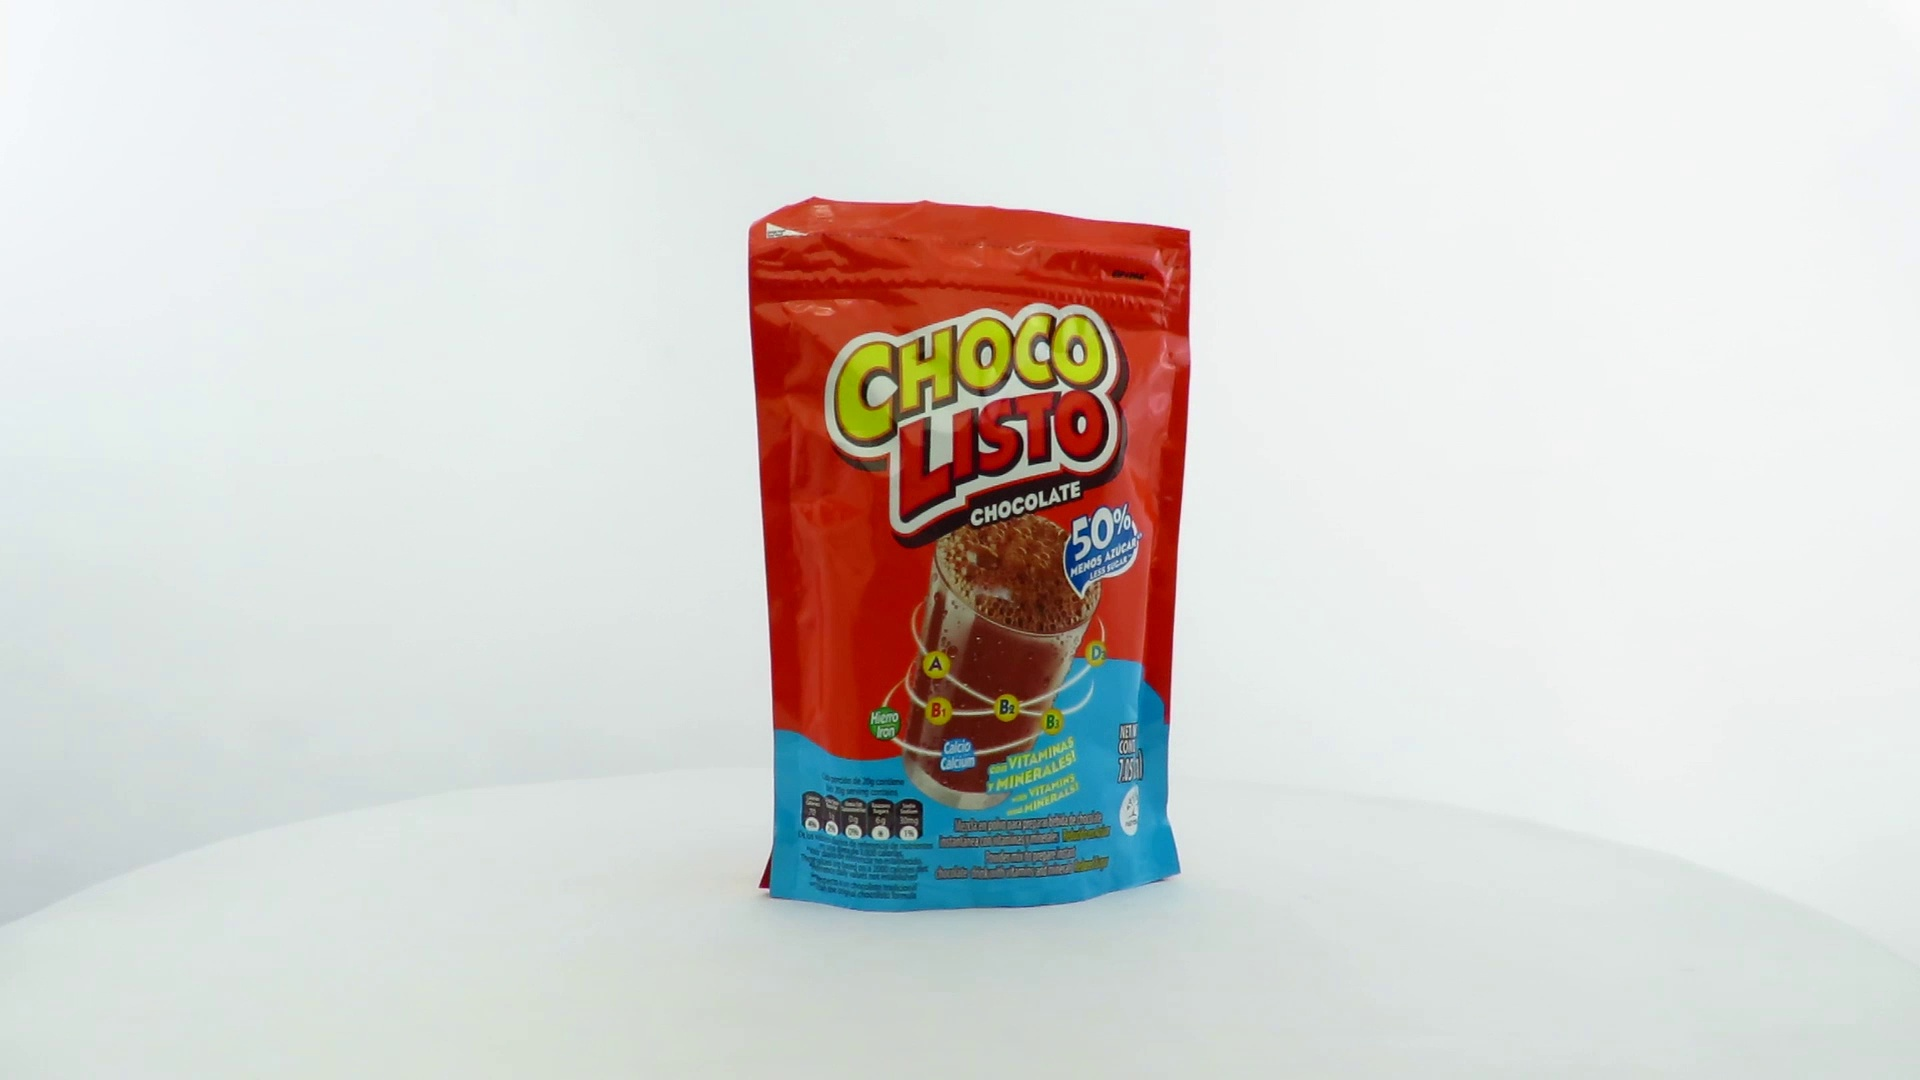COL0170104DYP20000: (742, 191, 1197, 919)
